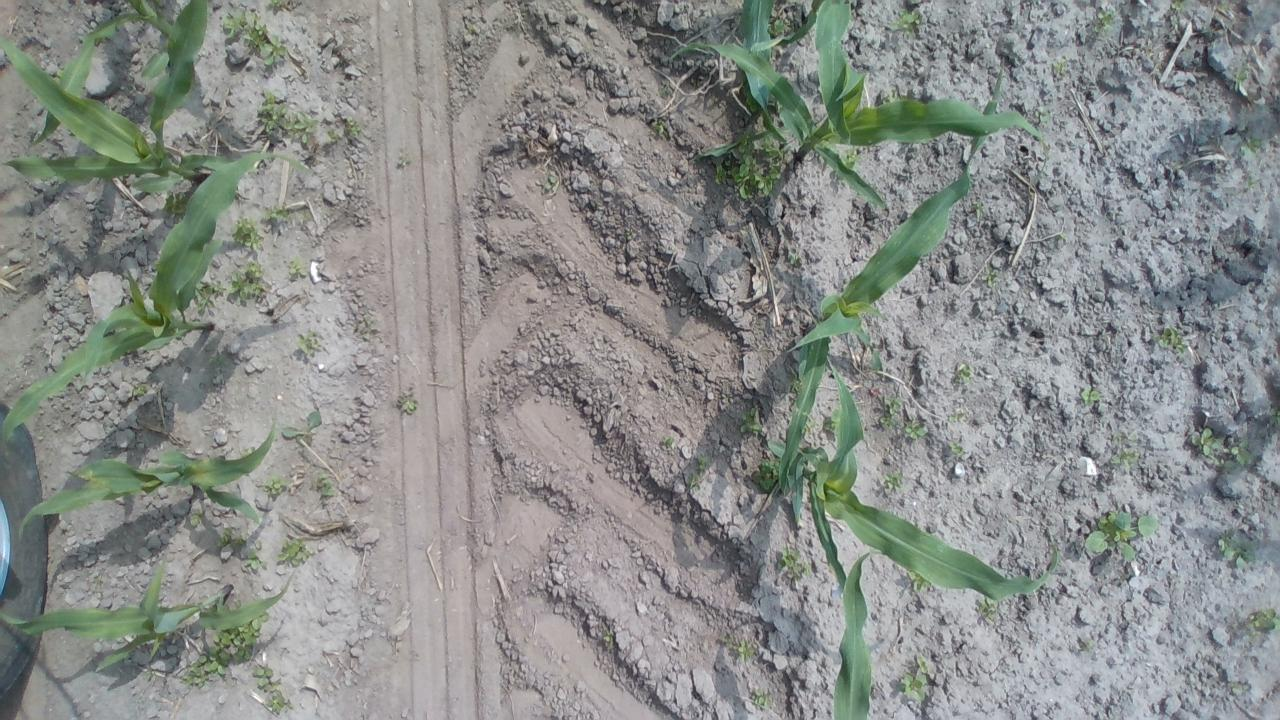Maize: (2, 150, 316, 449), (774, 78, 997, 499), (662, 1, 1046, 212), (766, 342, 1061, 602), (0, 1, 260, 192), (18, 415, 284, 541), (0, 560, 297, 669), (29, 0, 189, 145), (831, 551, 878, 720), (736, 0, 779, 164)
Weeds: (712, 127, 789, 202), (1082, 510, 1160, 564), (221, 8, 288, 70), (254, 91, 319, 145), (1187, 426, 1255, 472), (213, 610, 270, 662), (178, 649, 230, 691), (250, 665, 294, 713), (1216, 531, 1259, 572), (228, 260, 266, 304), (897, 652, 930, 702), (776, 542, 814, 581), (228, 212, 264, 252), (1239, 606, 1276, 642), (192, 276, 226, 314), (1108, 432, 1140, 470), (283, 410, 322, 440), (1154, 324, 1188, 357), (276, 536, 312, 567), (890, 7, 924, 39), (720, 634, 756, 664), (752, 457, 782, 492), (214, 526, 248, 554), (877, 392, 901, 430), (839, 146, 870, 172), (975, 594, 1000, 624), (260, 473, 292, 496), (294, 329, 322, 355), (738, 405, 762, 435), (314, 470, 336, 500), (902, 417, 928, 442), (164, 190, 187, 218), (1240, 135, 1266, 159), (880, 470, 906, 494), (1092, 8, 1116, 34), (242, 544, 265, 570), (534, 172, 560, 194), (822, 407, 841, 437), (354, 314, 376, 339), (262, 204, 291, 222), (1079, 385, 1102, 407), (287, 255, 308, 279), (344, 113, 364, 138), (650, 116, 674, 136), (908, 572, 932, 592), (750, 688, 771, 710), (954, 363, 974, 386), (1233, 66, 1250, 92), (981, 266, 1000, 288), (399, 393, 418, 414), (946, 441, 966, 460), (1034, 106, 1052, 127), (694, 451, 711, 473), (769, 15, 786, 35), (970, 198, 986, 219), (1051, 56, 1069, 74), (130, 382, 148, 398), (208, 354, 227, 369), (187, 509, 203, 526), (803, 419, 819, 436), (602, 631, 616, 650), (788, 374, 802, 393), (326, 128, 342, 144), (686, 472, 700, 490), (1170, 0, 1188, 14), (89, 572, 104, 588), (658, 82, 671, 98), (1244, 176, 1258, 190), (660, 435, 674, 449), (948, 410, 964, 422), (265, 0, 286, 9), (396, 154, 409, 168), (142, 670, 156, 683), (788, 250, 799, 266), (1054, 232, 1068, 244), (1084, 639, 1096, 651)
